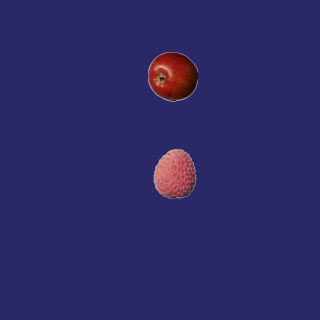Apple Braeburn: (147, 51, 197, 101)
Lychee: (149, 148, 199, 198)
